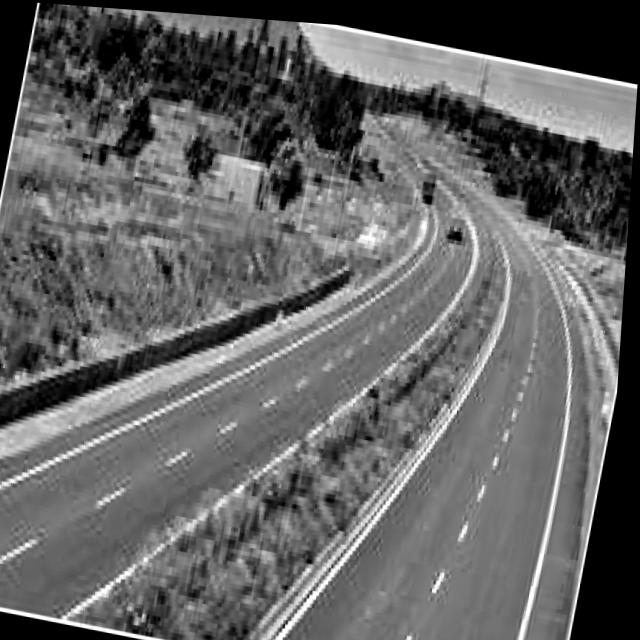cleat: (0, 2, 638, 640)
